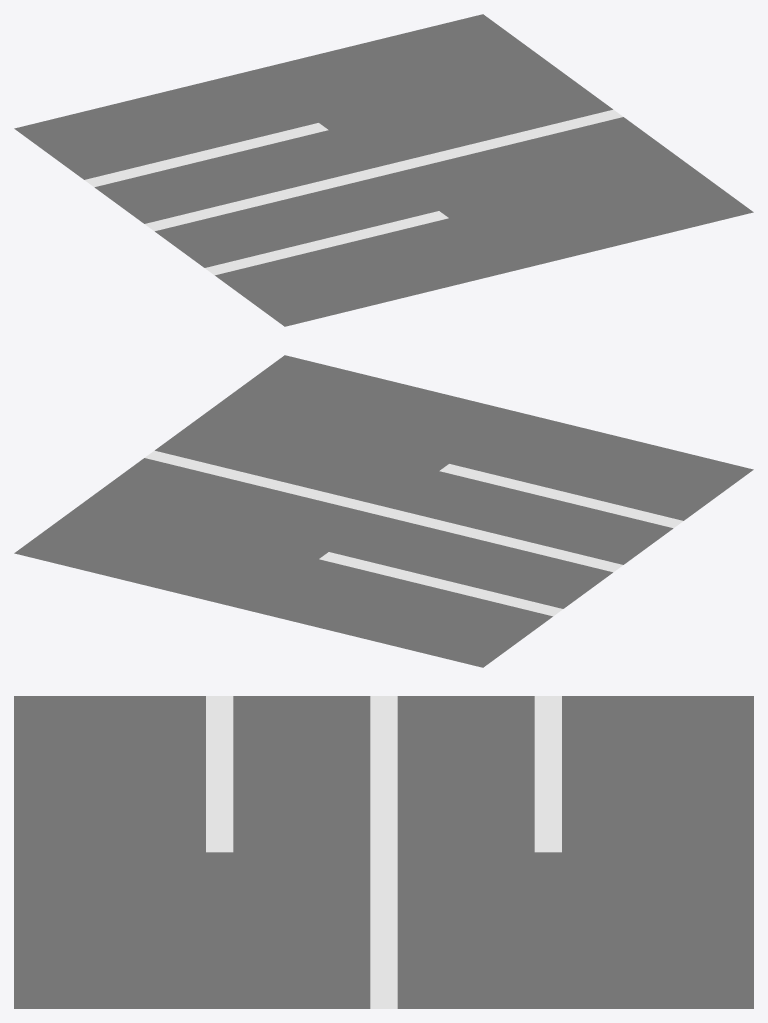
Rendered from SM_Road_P51.fbx.
3 renders of one model, top to bottom at view 1: azimuth 30°, elevation 25°; view 2: azimuth 150°, elevation 25°; view 3: azimuth 270°, elevation 25°, orthographic. The views are drawn at different scales.
Parts seen in each view (by area): view 1: SM_Road_P51; view 2: SM_Road_P51; view 3: SM_Road_P51.
Part boxes in pixels (x1,y1,x2,y2): SM_Road_P51: [14, 14, 753, 326]; SM_Road_P51: [14, 355, 753, 667]; SM_Road_P51: [14, 696, 753, 1008].
Bounding box in the file's own units: 1221 × 0 × 1221.
